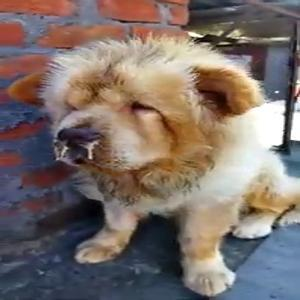nasal_discharge: (46, 123, 101, 165)
